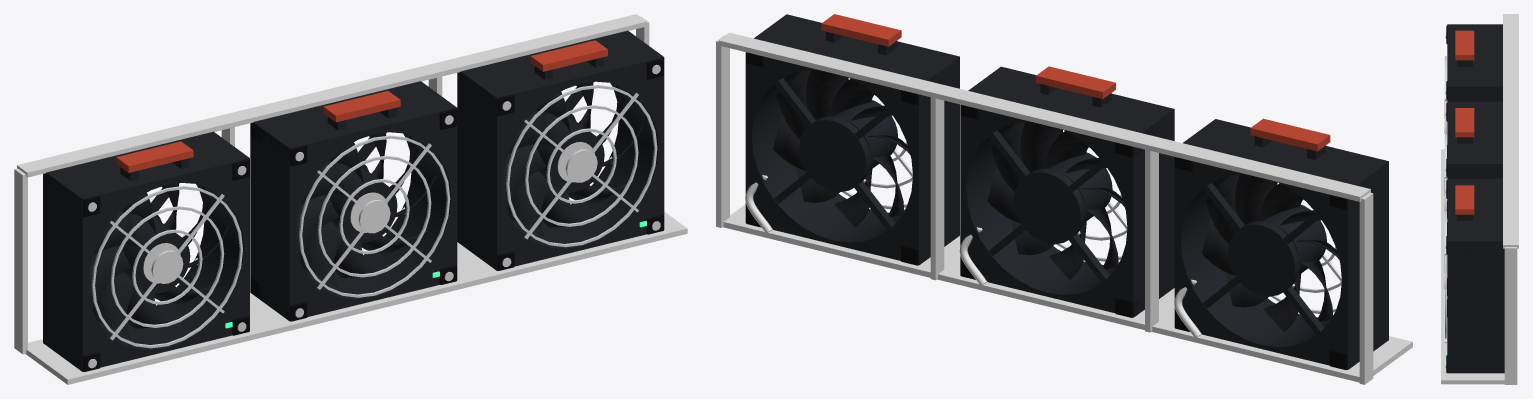
Rendered from hwm_cool_sunon_40mm_hs.glb.
3 views of the same model, side by side, from view 1: azimuth 30°, elevation 25°; view 2: azimuth 150°, elevation 25°; view 3: azimuth 270°, elevation 25° (orthographic). The views are drawn at different scales.
Parts seen in each view (by area): view 1: Body, Rotor_Z_2, Rotor_Z_0, Rotor_Z_1; view 2: Body, Rotor_Z_1, Rotor_Z_2, Rotor_Z_0; view 3: Body.
Part boxes in pixels (x1=…): Body: x1=14, y1=14, x2=687, y2=384; Rotor_Z_2: x1=503, y1=82, x2=643, y2=237; Rotor_Z_0: x1=88, y1=183, x2=229, y2=338; Rotor_Z_1: x1=295, y1=132, x2=436, y2=287; Body: x1=716, y1=14, x2=1412, y2=384; Rotor_Z_1: x1=987, y1=122, x2=1124, y2=279; Rotor_Z_2: x1=773, y1=69, x2=910, y2=227; Rotor_Z_0: x1=1202, y1=174, x2=1338, y2=332; Body: x1=1441, y1=14, x2=1518, y2=384.
Size of the model in its own units: 0.3478 by 0.1033 by 0.049.
